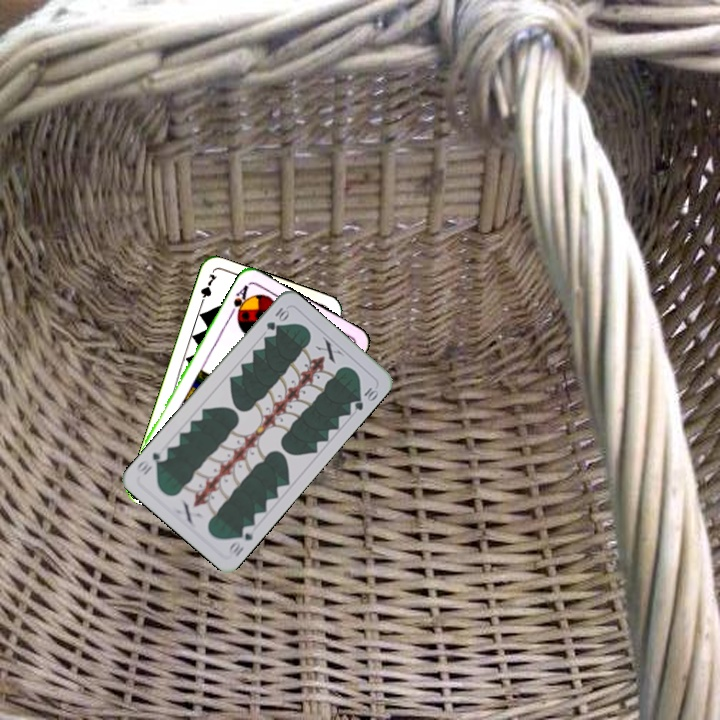G10: (225, 521, 258, 560), (262, 303, 291, 333)
G7: (196, 269, 220, 309)
SA: (226, 281, 253, 321)
